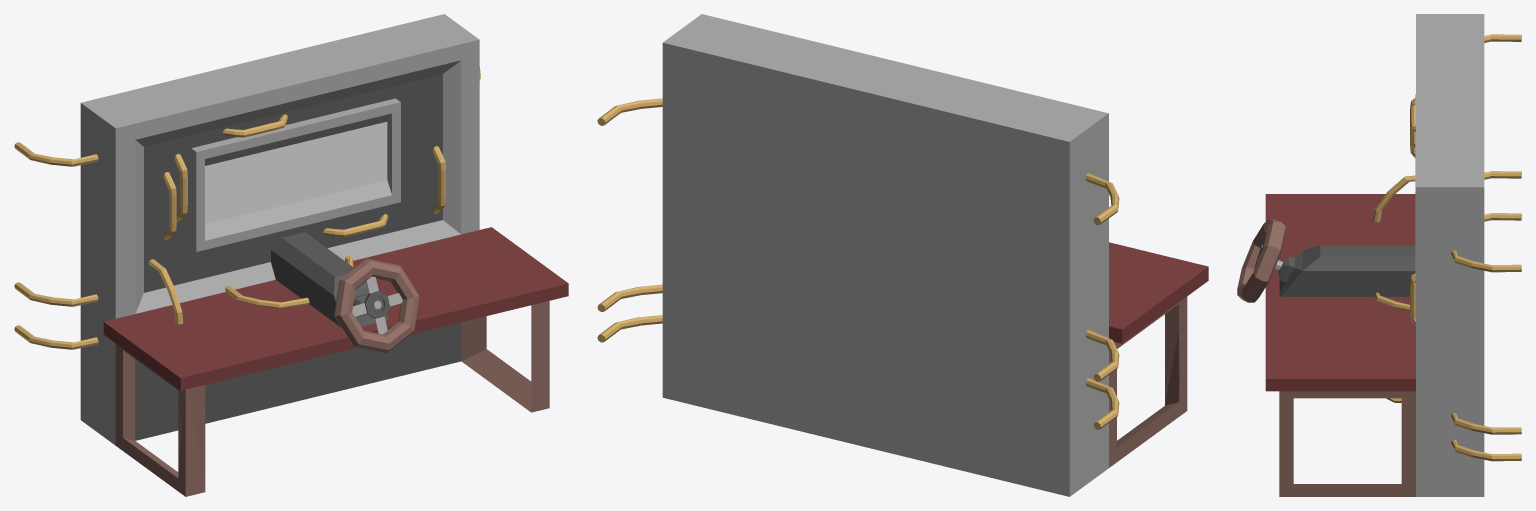
3 renders of one model, left to right at view 1: azimuth 30°, elevation 25°; view 2: azimuth 150°, elevation 25°; view 3: azimuth 270°, elevation 25°, orthographic. The views are drawn at different scales.
Visible parts, largest first — view 1: Cube; view 2: Cube; view 3: Cube.
Boxes of the visible parts, x1,y1,x2,y2 form: Cube: (14,14,568,496); Cube: (597,14,1208,496); Cube: (1237,14,1521,496).
Size of the model in its own units: 744 by 500 by 417.
